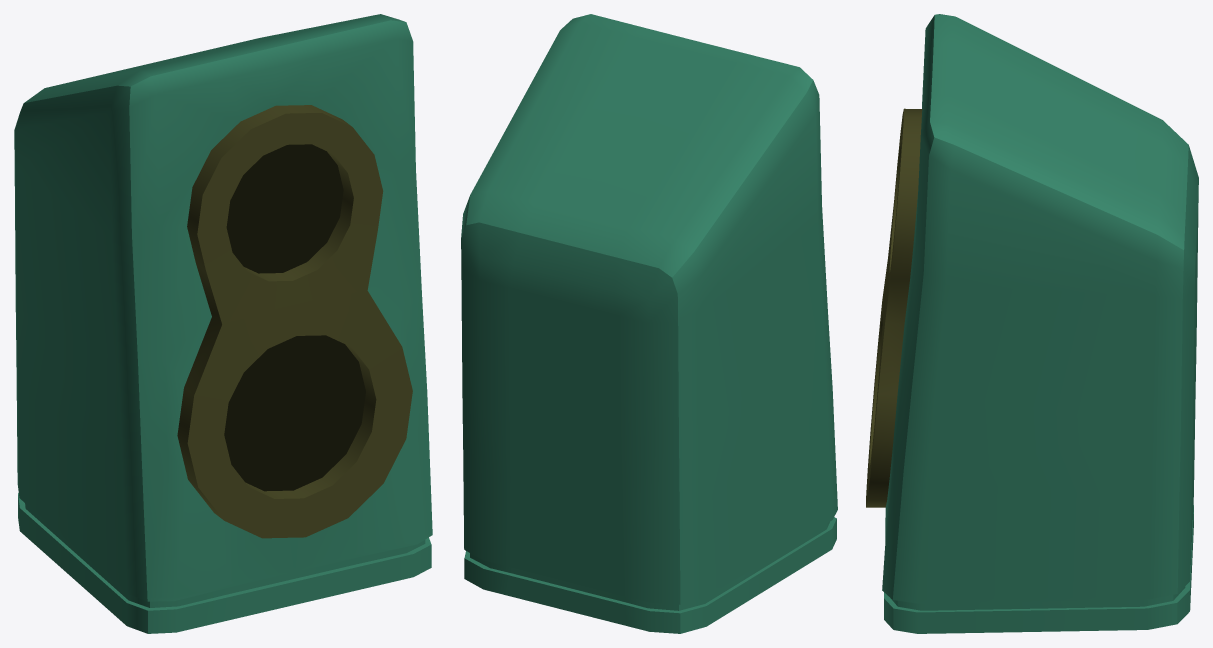
Rendered from Speaker_low.fbx.
3 views of the same model, side by side, from view 1: azimuth 30°, elevation 25°; view 2: azimuth 150°, elevation 25°; view 3: azimuth 270°, elevation 25° (orthographic). The views are drawn at different scales.
Parts seen in each view (by area): view 1: speaker_low; view 2: speaker_low; view 3: speaker_low.
Part boxes in pixels (bbox=[...]): speaker_low: bbox=[14, 14, 432, 633]; speaker_low: bbox=[461, 14, 837, 633]; speaker_low: bbox=[866, 14, 1198, 633].
Bounding box in the file's own units: 228 × 395 × 239.
